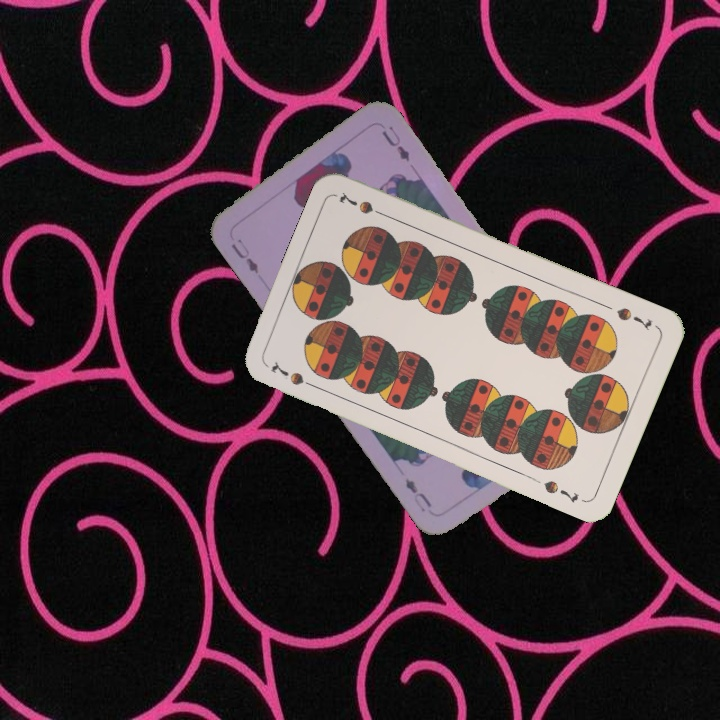EU: (227, 235, 262, 277)
S7: (266, 357, 320, 392), (612, 303, 655, 334)
